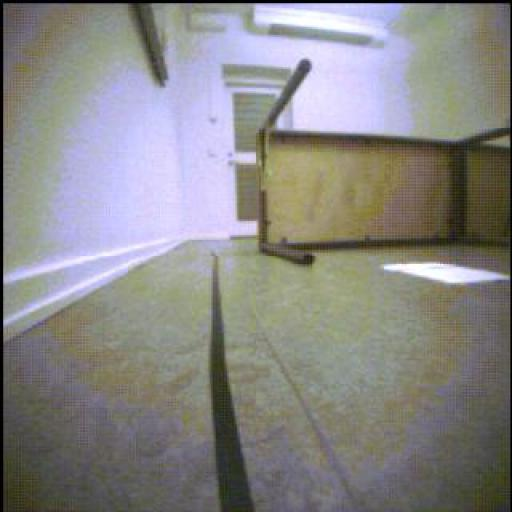Pad: (384, 263, 512, 286)
